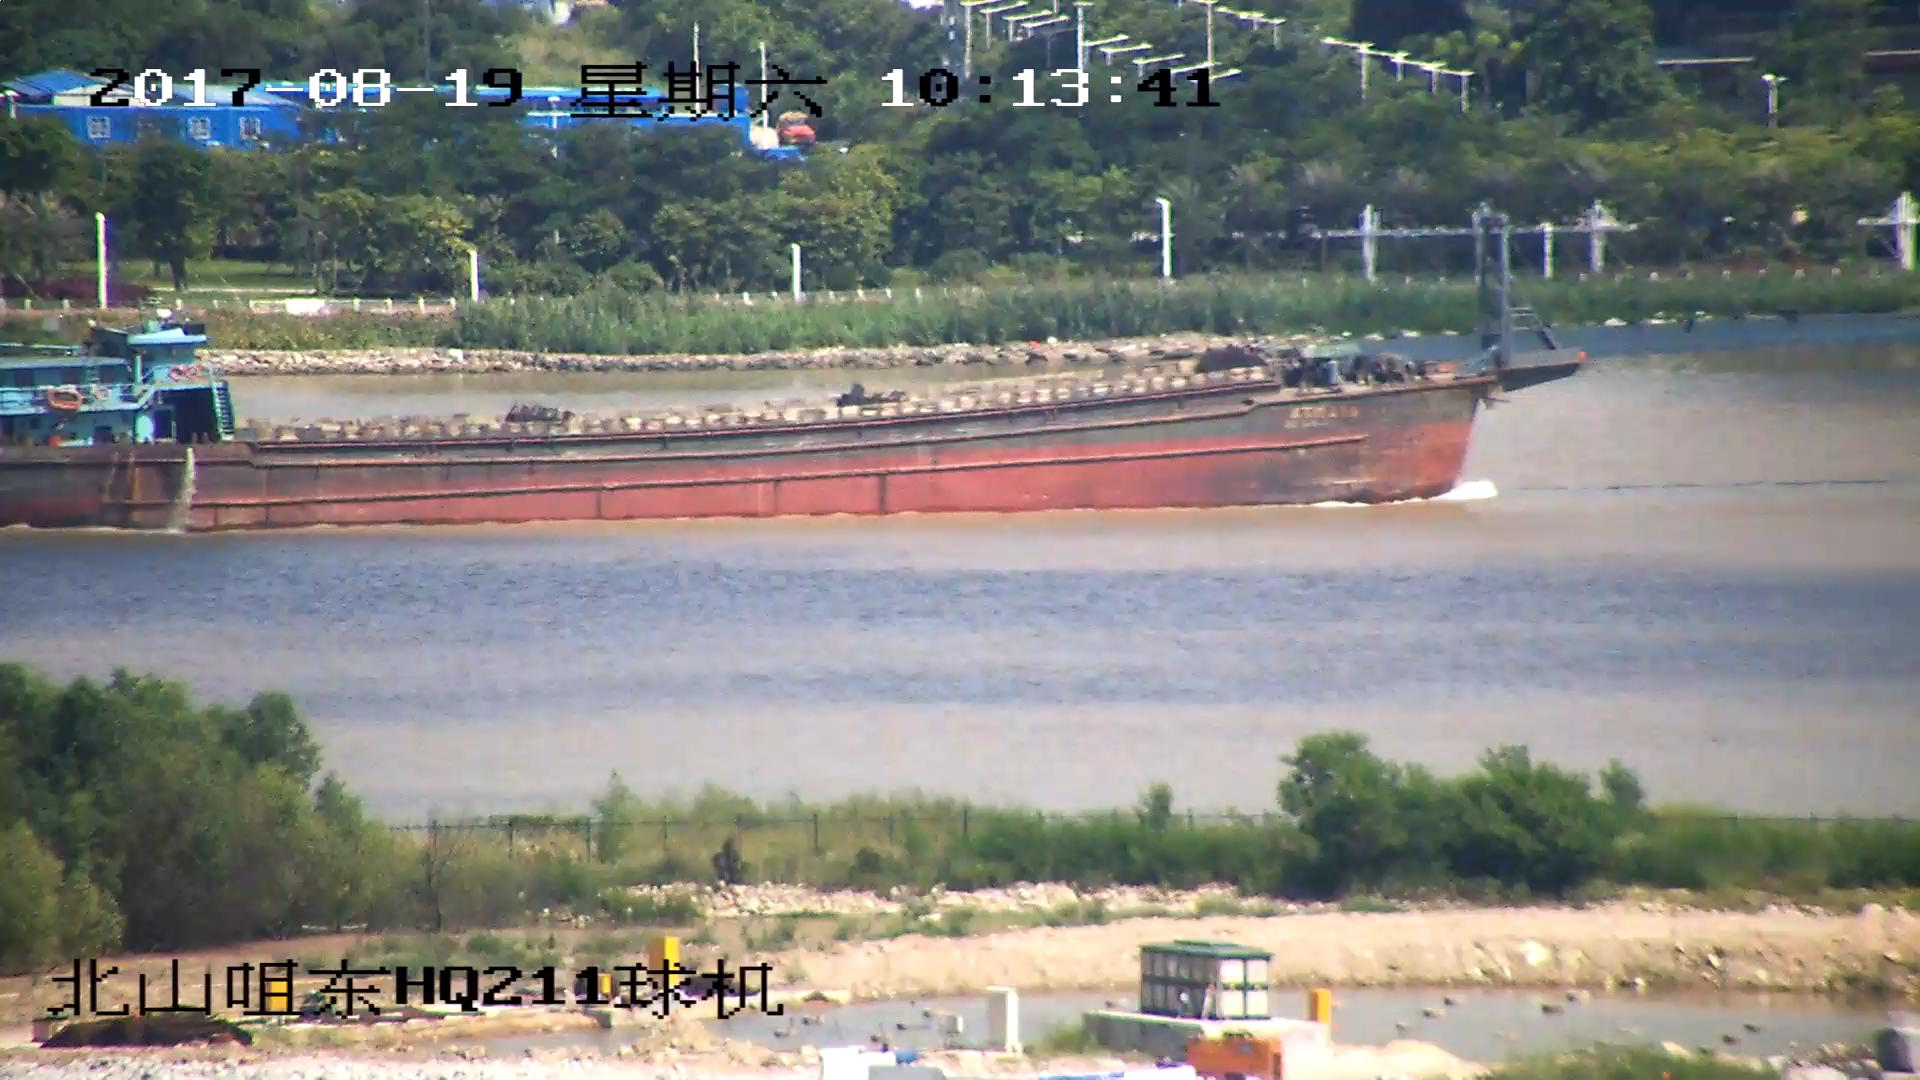bulk cargo carrier: (1, 200, 1920, 535)
